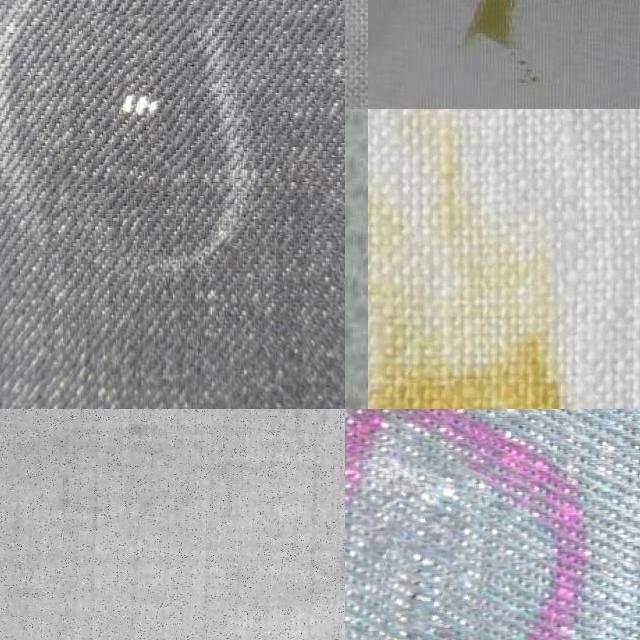Hole: (368, 108, 640, 409), (440, 0, 559, 90)
Thread_other: (63, 12, 191, 190), (378, 467, 488, 640)
